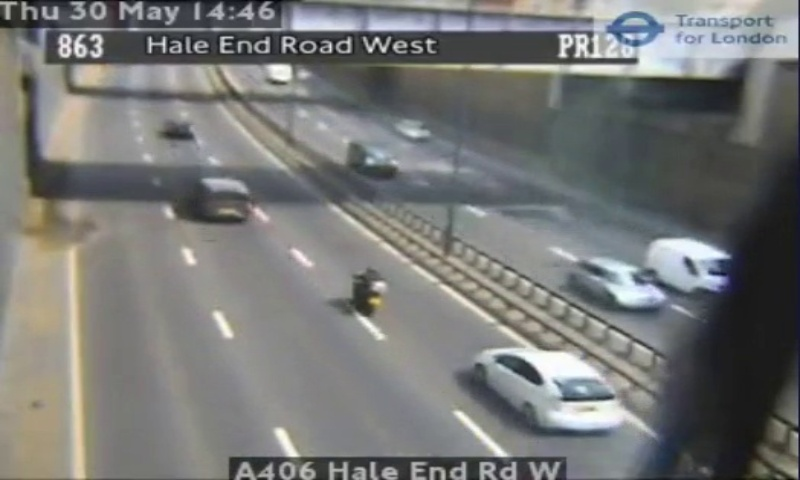car: (476, 347, 622, 434)
motorcycle: (351, 263, 387, 317)
van: (196, 177, 253, 221)
